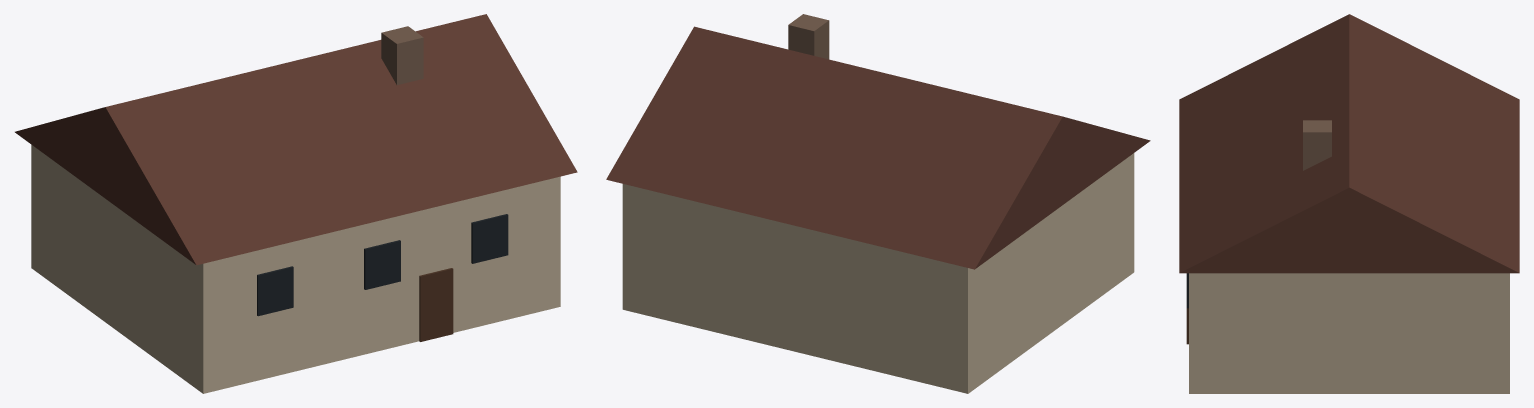
Rendered from farmhouse.glb.
3 views of the same model, side by side, from view 1: azimuth 30°, elevation 25°; view 2: azimuth 150°, elevation 25°; view 3: azimuth 270°, elevation 25° (orthographic). The views are drawn at different scales.
Visible parts, largest first — view 1: house; view 2: house; view 3: house.
Part boxes in pixels (x1,y1,x2,y2): house: (15,14,577,393); house: (606,14,1150,393); house: (1179,14,1519,393).
Bounding box in the file's own units: 12.8 × 7.8 × 10.6.
